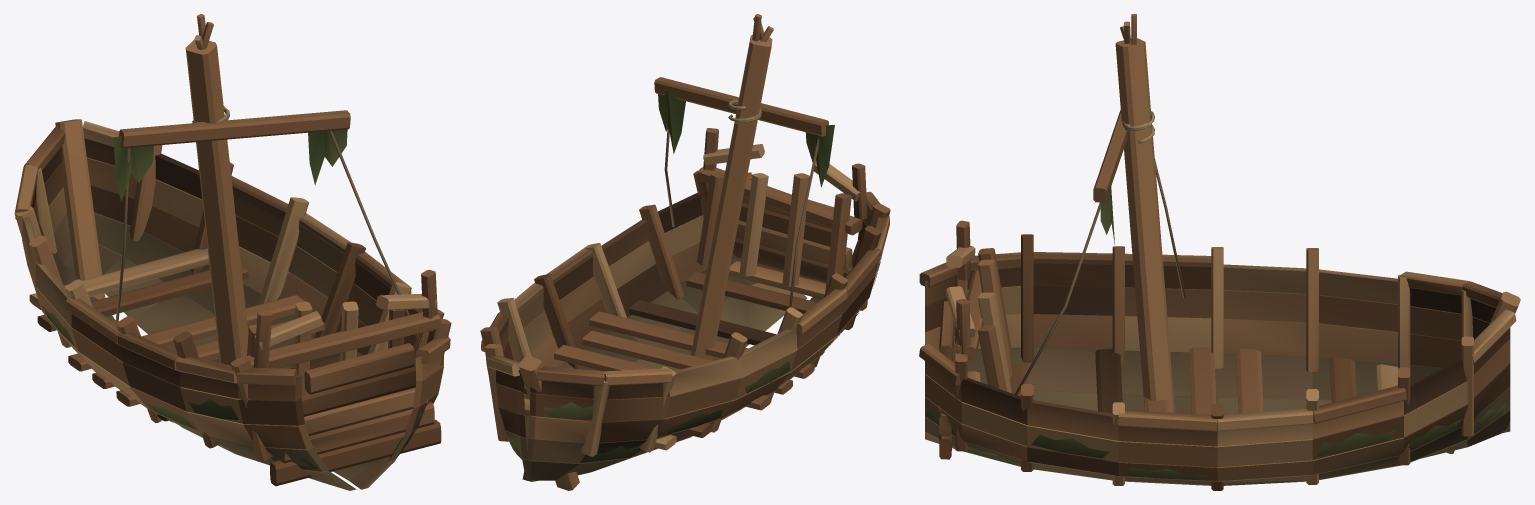
Rendered from building-wreck-low.glb.
The picture shows the model from 3 angles, left to right: view 1: azimuth 30°, elevation 25°; view 2: azimuth 150°, elevation 25°; view 3: azimuth 270°, elevation 25°; orthographic projection. The views are drawn at different scales.
Visible parts, largest first — view 1: 0_wreck; view 2: 0_wreck; view 3: 0_wreck.
Boxes of the visible parts, bbox=[...] form: 0_wreck: bbox=[14, 14, 451, 490]; 0_wreck: bbox=[480, 14, 890, 490]; 0_wreck: bbox=[919, 14, 1520, 490].
Size of the model in its own units: 4.51 by 6.25 by 8.07.
